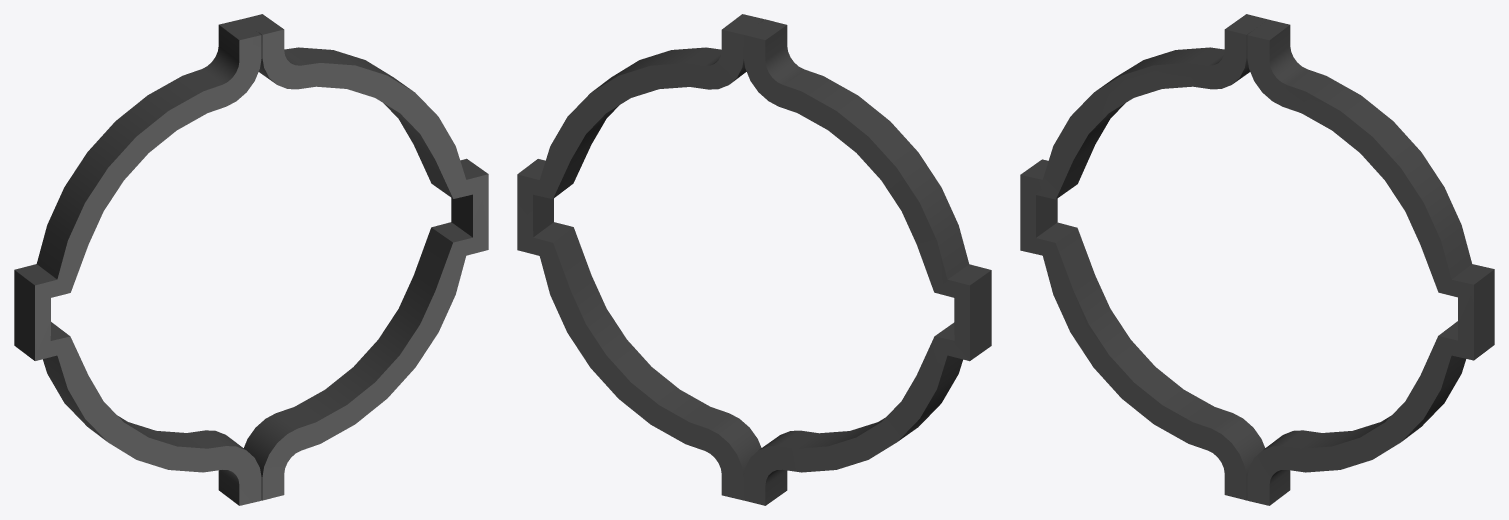
Rendered from PipeBracket.fbx.
3 renders of one model, left to right at view 1: azimuth 30°, elevation 25°; view 2: azimuth 150°, elevation 25°; view 3: azimuth 330°, elevation 25°, orthographic.
Visible parts, largest first — view 1: Bracket; view 2: Bracket; view 3: Bracket.
Boxes of the visible parts, x1,y1,x2,y2 form: Bracket: [14, 14, 488, 505]; Bracket: [517, 14, 991, 505]; Bracket: [1020, 14, 1494, 505].
Size of the model in its own units: 281 by 276 by 22.99.
